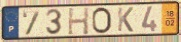3: (45, 8, 64, 36)
4: (140, 5, 158, 33)
7: (21, 9, 41, 37)
H: (67, 6, 91, 36)
K: (117, 7, 135, 33)
O: (91, 7, 114, 35)
